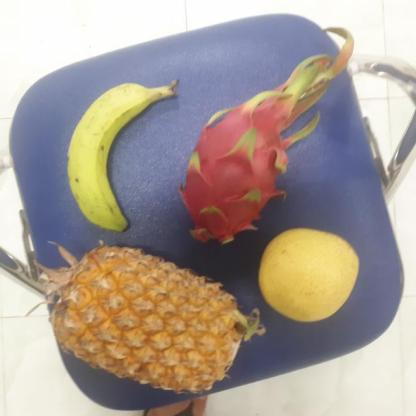banana: (62, 82, 175, 231)
pear: (254, 228, 361, 320)
pineapple: (47, 250, 248, 396)
pitaya: (173, 89, 300, 248)
